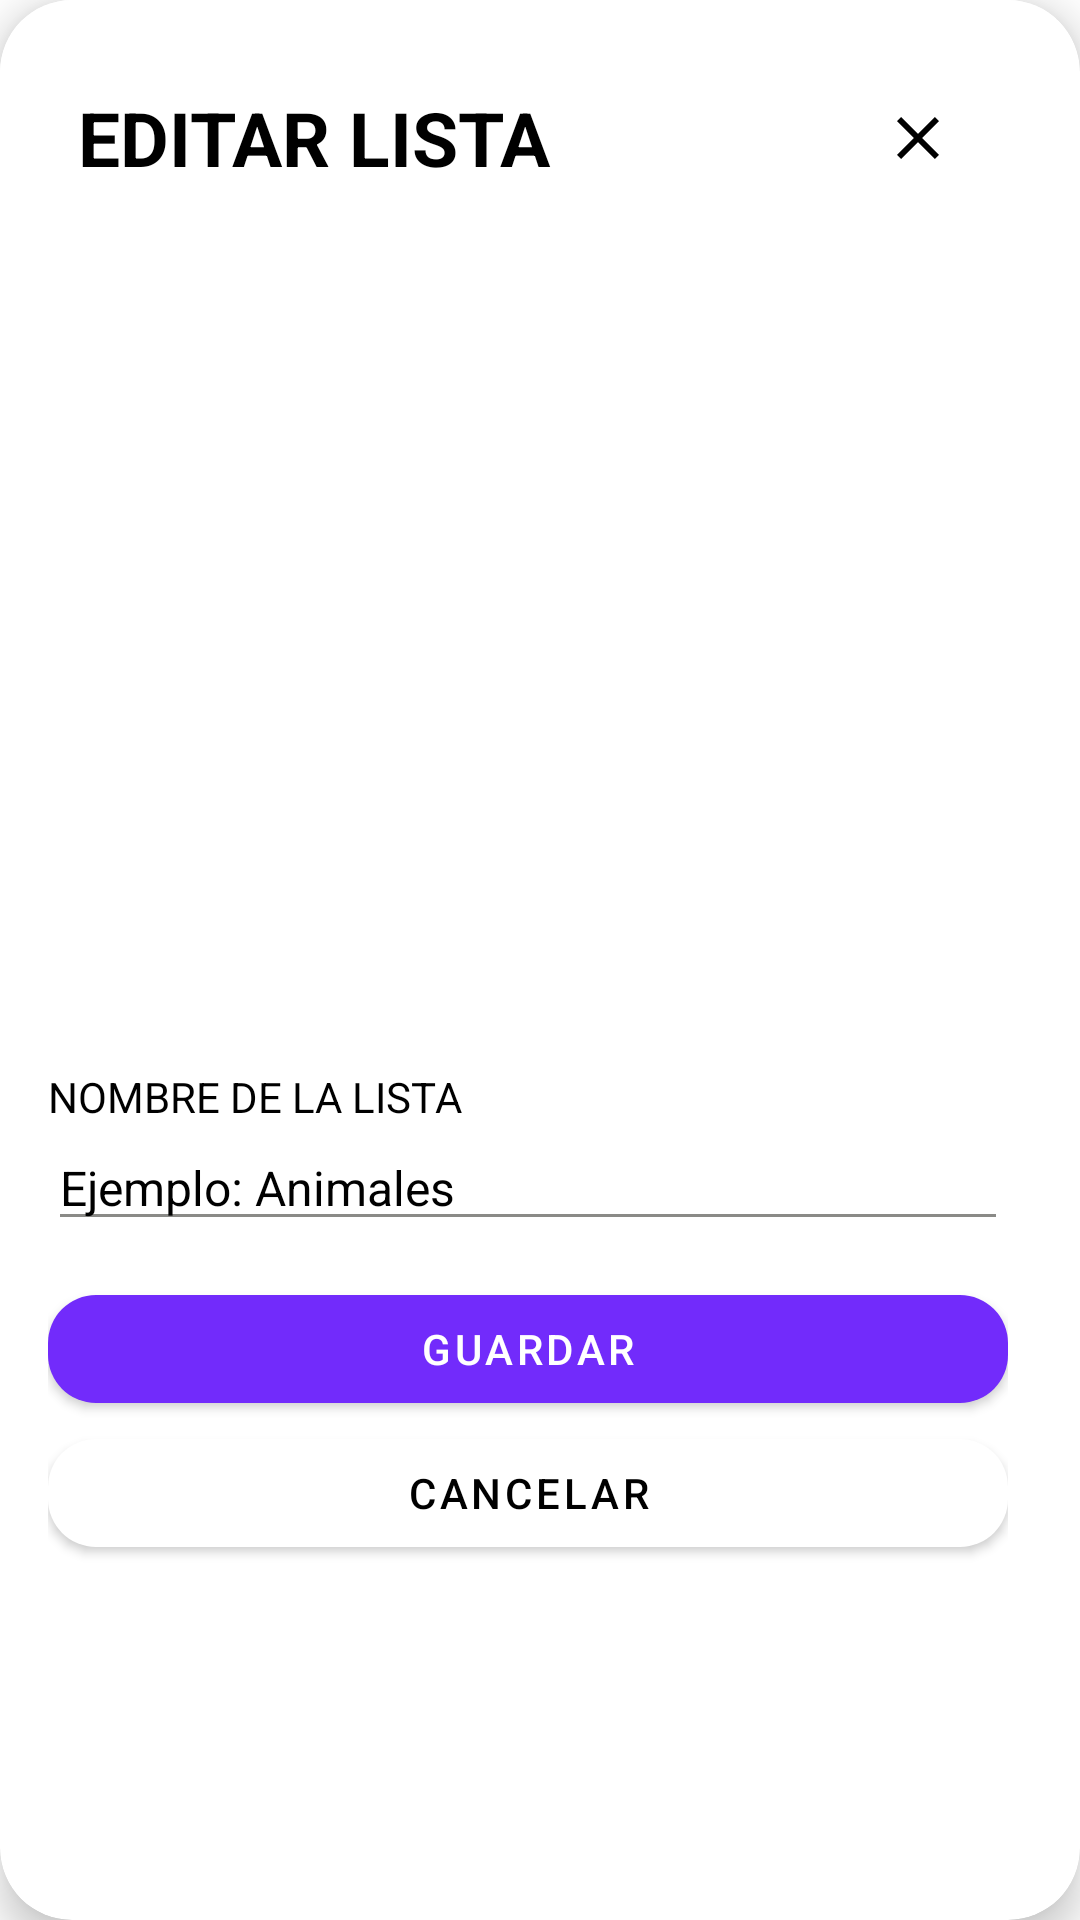

Named icons in this screenshot (1080×1920) and their bounding boxes, {"left": x1, "top": y1, "right": x2, "bottom": y2}:
Cerrar: {"left": 897, "top": 117, "right": 939, "bottom": 159}
